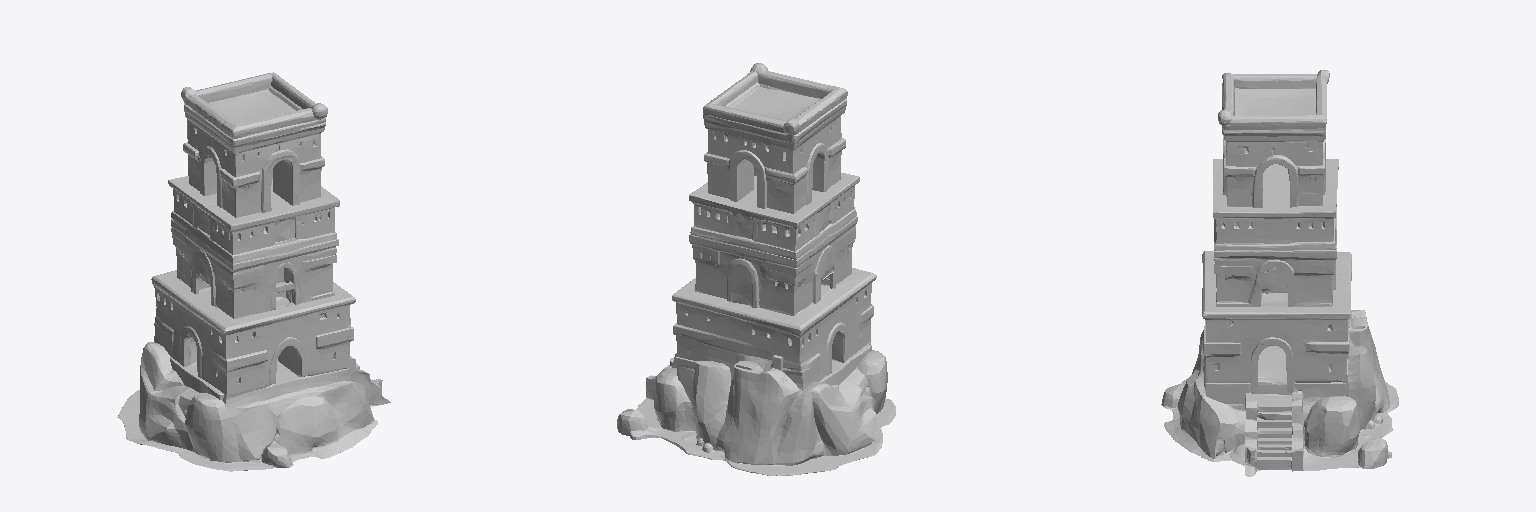
File: Temple.obj
3 renders of one model, left to right at view 1: azimuth 30°, elevation 25°; view 2: azimuth 150°, elevation 25°; view 3: azimuth 270°, elevation 25°, orthographic.
Visible parts, largest first — view 1: geometry_0_geometry_0.1488; view 2: geometry_0_geometry_0.1488; view 3: geometry_0_geometry_0.1488.
Boxes of the visible parts, x1,y1,x2,y2 form: geometry_0_geometry_0.1488: [117, 72, 390, 471]; geometry_0_geometry_0.1488: [617, 63, 895, 475]; geometry_0_geometry_0.1488: [1161, 70, 1398, 476].
Size of the model in its own units: 0.7609 by 1 by 0.661.